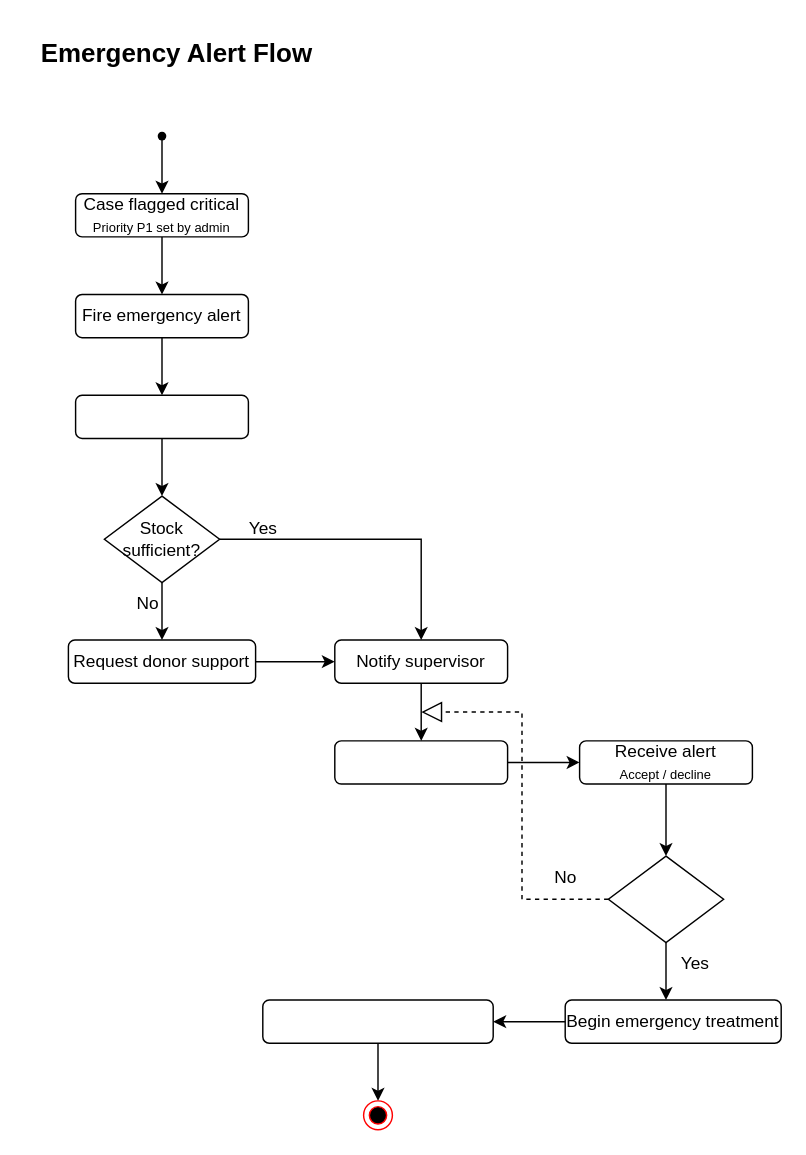
The diagram is 806 pixels wide and 1155 high, and some of its shapes have lost their labels. Here are the shapes that lost their labels. From the top down, the centre of each, then its label:
At pixel 161 416: "Check medicine stock".
At pixel 420 761: "Assign available volunteer doctor".
At pixel 665 898: "Accepted?".
At pixel 377 1021: "Log emergency in dashboard".
